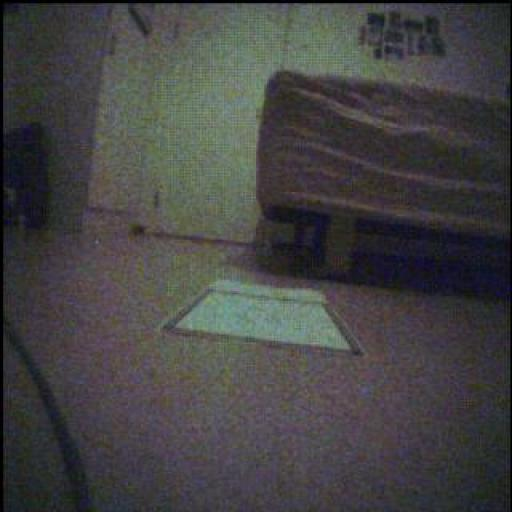pad: (161, 281, 363, 355)
